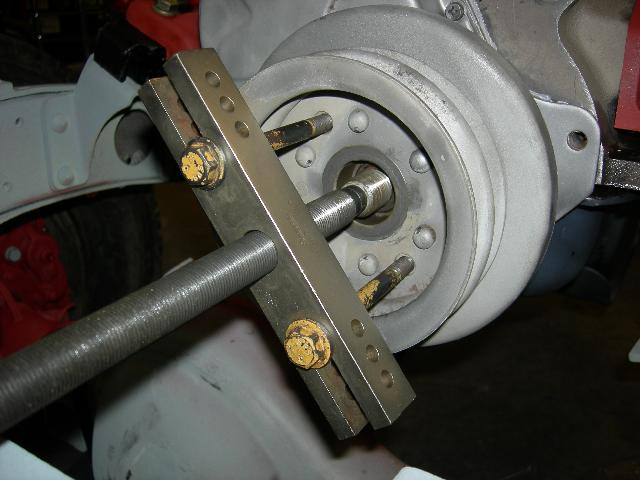bolt: (280, 316, 337, 373), (177, 137, 230, 195), (150, 1, 182, 20)
hole: (566, 129, 588, 153), (233, 119, 254, 140), (379, 370, 397, 394), (349, 317, 368, 339), (218, 95, 238, 115), (365, 344, 383, 365), (203, 71, 221, 90), (14, 116, 25, 128)
rivet: (407, 148, 436, 176), (412, 224, 438, 251), (356, 252, 382, 278), (346, 107, 370, 135), (294, 144, 319, 170), (50, 113, 71, 135), (57, 166, 76, 188)
screw: (444, 2, 464, 23)
